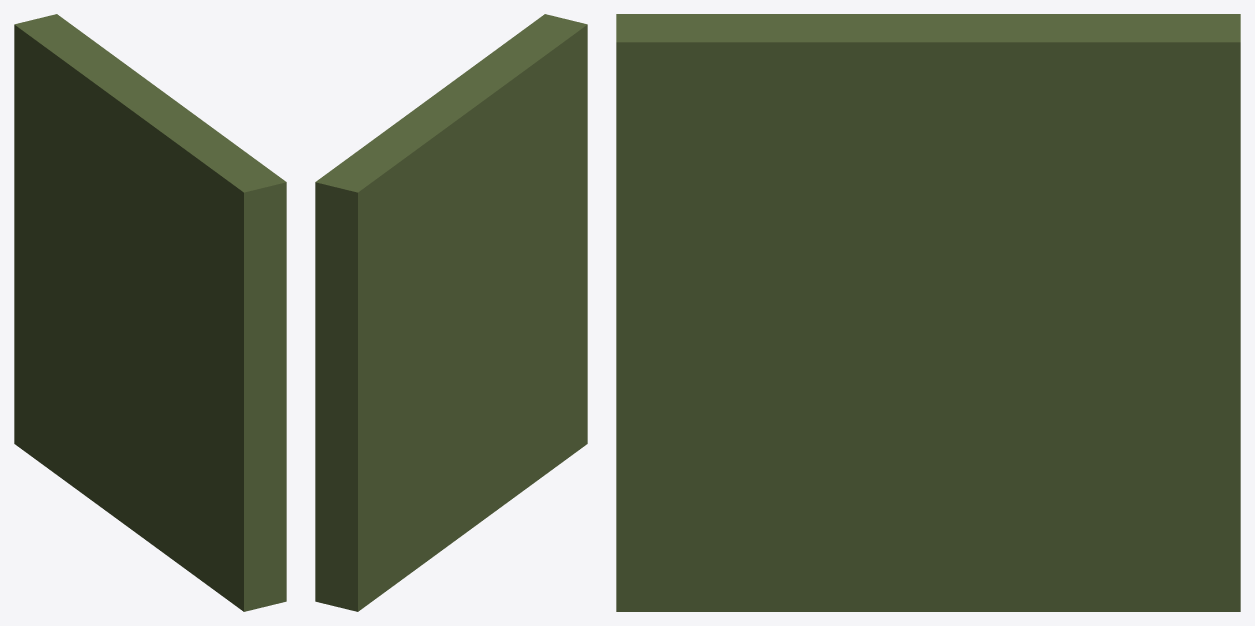
Rendered from vehicle_door_open.obj.
3 views of the same model, side by side, from view 1: azimuth 30°, elevation 25°; view 2: azimuth 150°, elevation 25°; view 3: azimuth 270°, elevation 25° (orthographic). The views are drawn at different scales.
Visible parts, largest first — view 1: vehicle_door_open; view 2: vehicle_door_open; view 3: vehicle_door_open.
Boxes of the visible parts, x1=… form: vehicle_door_open: x1=14, y1=14, x2=286, y2=611; vehicle_door_open: x1=315, y1=14, x2=587, y2=611; vehicle_door_open: x1=616, y1=14, x2=1240, y2=611.
Size of the model in its own units: 0.32 by 3 by 2.98.
